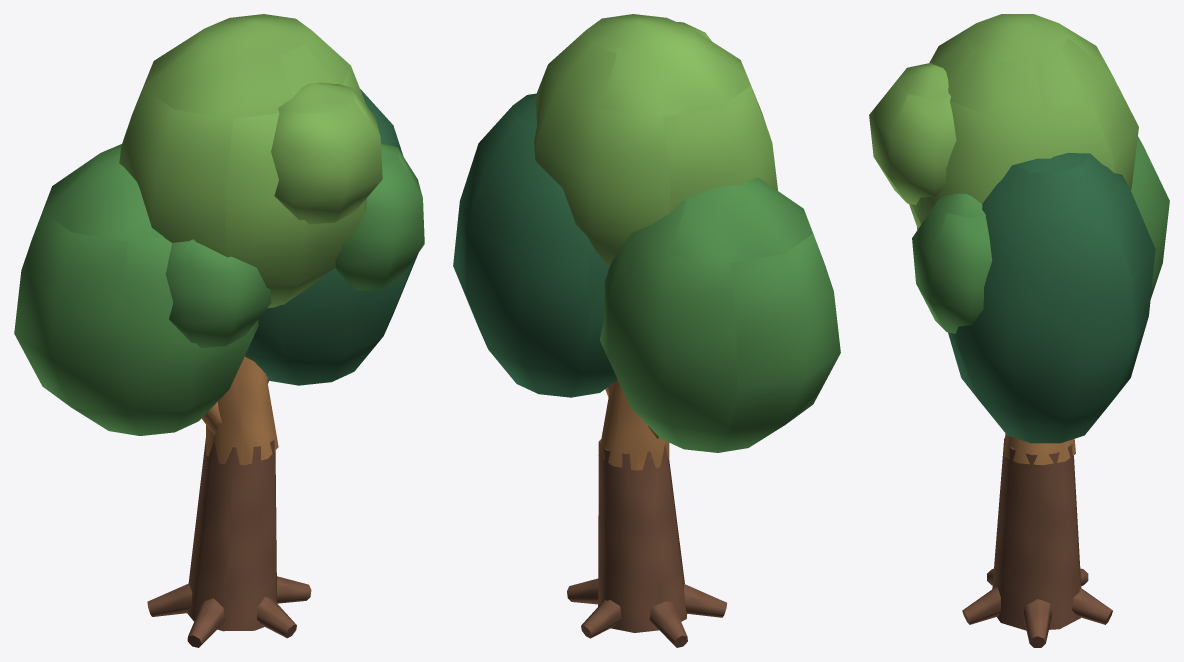
Rendered from tree-04.glb.
3 views of the same model, side by side, from view 1: azimuth 30°, elevation 25°; view 2: azimuth 150°, elevation 25°; view 3: azimuth 270°, elevation 25° (orthographic). The views are drawn at different scales.
Visible parts, largest first — view 1: tree-04-mesh; view 2: tree-04-mesh; view 3: tree-04-mesh.
Boxes of the visible parts, bbox=[...] form: tree-04-mesh: bbox=[14, 14, 424, 647]; tree-04-mesh: bbox=[453, 14, 840, 647]; tree-04-mesh: bbox=[869, 14, 1169, 647].
Bounding box in the file's own units: 2.51 × 3.92 × 1.8.
Materials: 1 (1 with a texture image).
